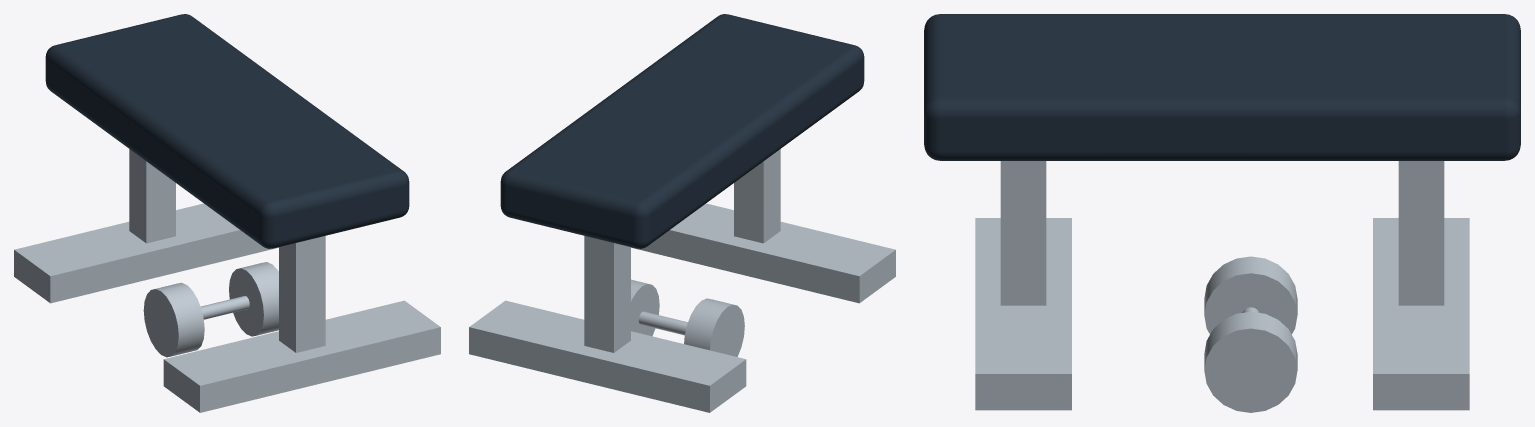
Rendered from dumbbell_bench.glb.
3 renders of one model, left to right at view 1: azimuth 30°, elevation 25°; view 2: azimuth 150°, elevation 25°; view 3: azimuth 270°, elevation 25°, orthographic. The views are drawn at different scales.
Visible parts, largest first — view 1: seat, benchFoot (×2), benchLeg (×2), Ldumbbell; view 2: seat, benchFoot (×2), benchLeg (×2), Ldumbbell; view 3: seat, benchFoot (×2), benchLeg (×2), Ldumbbell.
Part boxes in pixels (left/top/right/bottom): seat: left=45, top=14, right=409, bottom=248; benchFoot (×2): left=14, top=203, right=440, bottom=412; benchLeg (×2): left=129, top=149, right=325, bottom=352; Ldumbbell: left=143, top=262, right=278, bottom=357; seat: left=500, top=14, right=864, bottom=248; benchFoot (×2): left=469, top=203, right=895, bottom=412; benchLeg (×2): left=584, top=149, right=780, bottom=352; Ldumbbell: left=631, top=279, right=744, bottom=356; seat: left=924, top=14, right=1520, bottom=160; benchFoot (×2): left=975, top=218, right=1469, bottom=410; benchLeg (×2): left=1000, top=161, right=1444, bottom=305; Ldumbbell: left=1204, top=256, right=1297, bottom=412.
Size of the model in its own units: 0.65 by 0.622 by 1.05.
